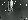person: (6, 3, 13, 15)
